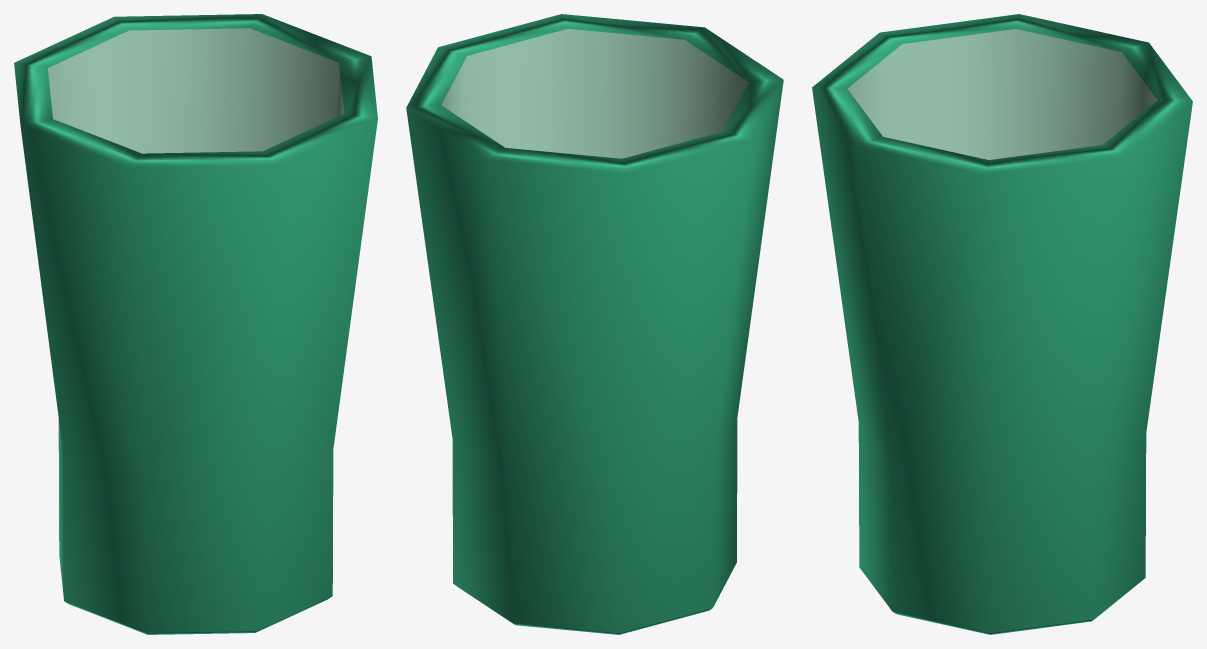
Rendered from SM_Cup1.fbx.
3 views of the same model, side by side, from view 1: azimuth 30°, elevation 25°; view 2: azimuth 150°, elevation 25°; view 3: azimuth 270°, elevation 25° (orthographic).
Visible parts, largest first — view 1: SM_Cup1_LOD0; view 2: SM_Cup1_LOD0; view 3: SM_Cup1_LOD0.
Part boxes in pixels (<box>): SM_Cup1_LOD0: <box>14,14,377,634</box>; SM_Cup1_LOD0: <box>406,14,783,634</box>; SM_Cup1_LOD0: <box>812,14,1192,634</box>.
Size of the model in its own units: 5.18 by 5.18 by 7.24.
